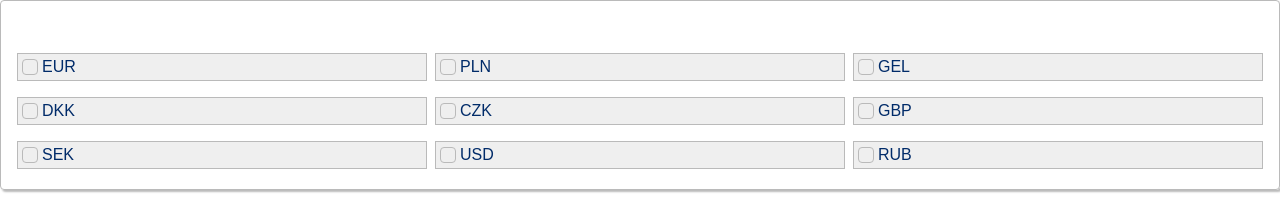
it: CurrencySelection › should handle currency, so it would accordingly add or remove the currency to/from the selectedCurrencies list
The width and height of the screenshot is (1280, 218).
Click the text "EUR" at (57, 67), box [38,58,76,76]
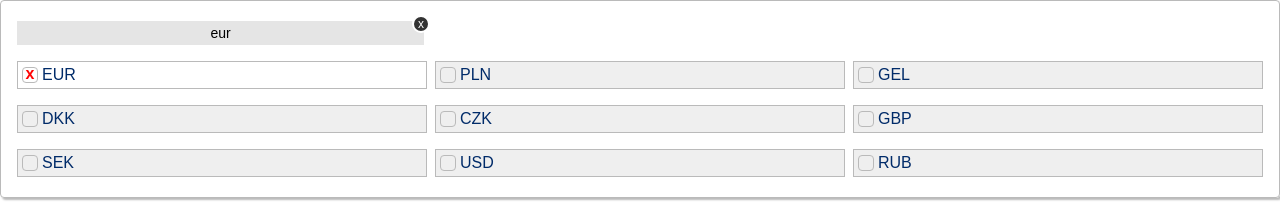
Now the text "eur" is shown once, box [17,21,424,45]
Click the text "PLN" at (474, 75), box [456,66,491,84]
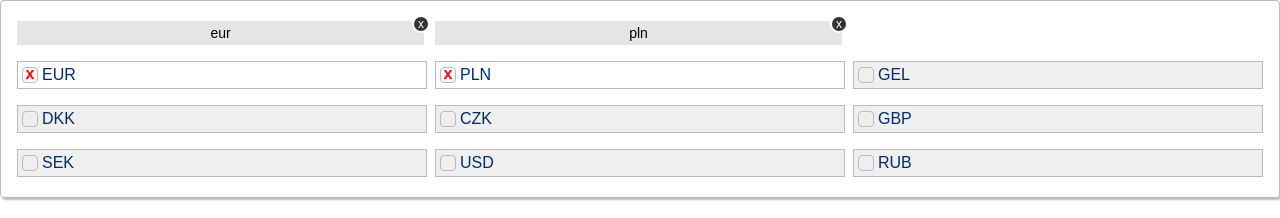
Expected: the text "eur" is shown once, [17,21,424,45]
Now the text "pln" is shown once, box [435,21,842,45]
Click the text "EUR" at (57, 75), box [38,66,76,84]
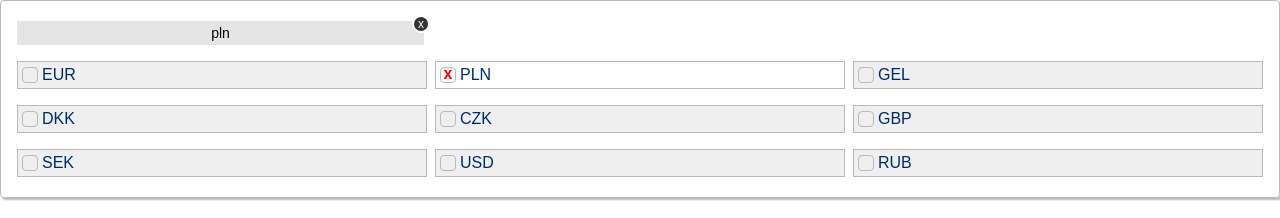
Now the text "pln" is shown once, box [17,21,424,45]
